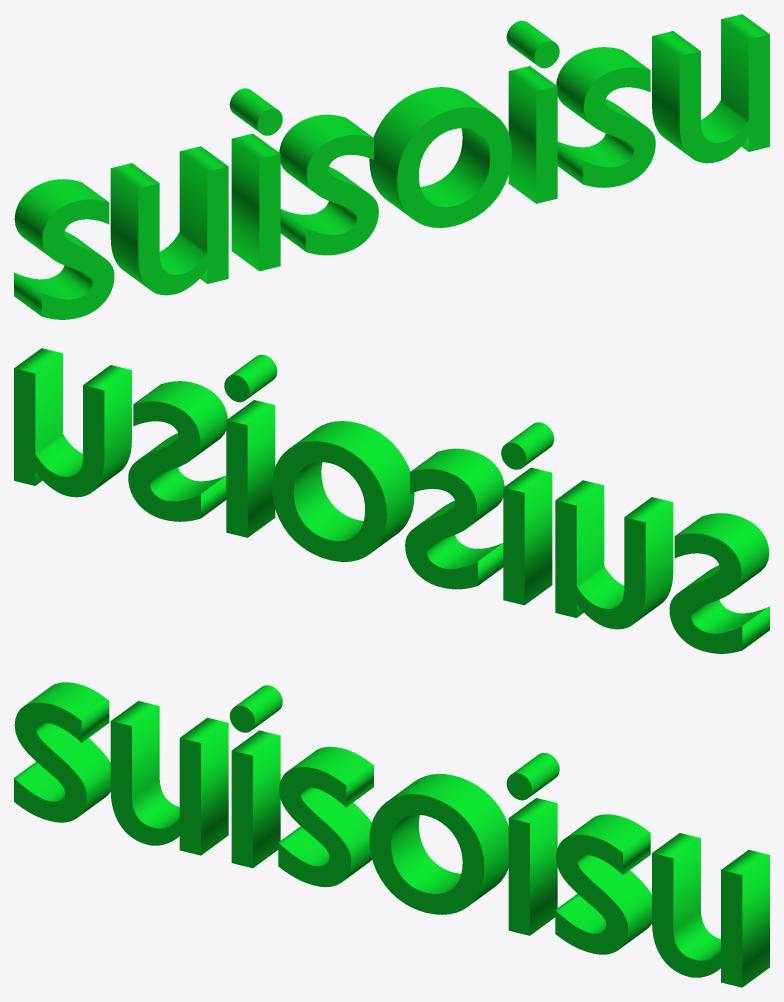
Rendered from suisoisu.gltf.
3 views of the same model, one above another, from view 1: azimuth 30°, elevation 25°; view 2: azimuth 150°, elevation 25°; view 3: azimuth 330°, elevation 25° (orthographic).
Visible parts, largest first — view 1: テキスト; view 2: テキスト; view 3: テキスト.
Part boxes in pixels (<box>): テキスト: <box>14,14,769,319</box>; テキスト: <box>14,348,769,653</box>; テキスト: <box>14,682,769,987</box>.
Bounding box in the file's own units: 3.04 × 0.647 × 0.2.
